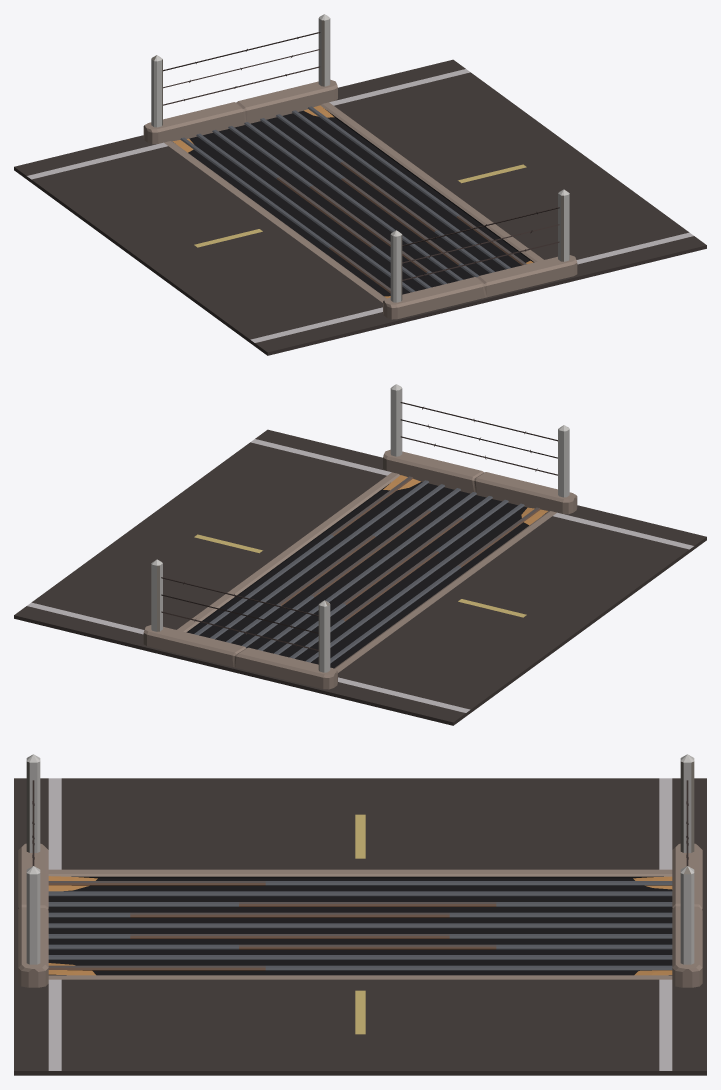
Rendered from cattle-grid-fff844.glb.
3 views of the same model, one above another, from view 1: azimuth 30°, elevation 25°; view 2: azimuth 150°, elevation 25°; view 3: azimuth 270°, elevation 25° (orthographic). The views are drawn at different scales.
Visible parts, largest first — view 1: cattle-grid-body; view 2: cattle-grid-body; view 3: cattle-grid-body.
Part boxes in pixels (x1,y1,x2,y2): cattle-grid-body: (14,14,706,355); cattle-grid-body: (14,384,706,725); cattle-grid-body: (14,754,706,1075).
Bounding box in the file's own units: 8 × 1.52 × 8.
